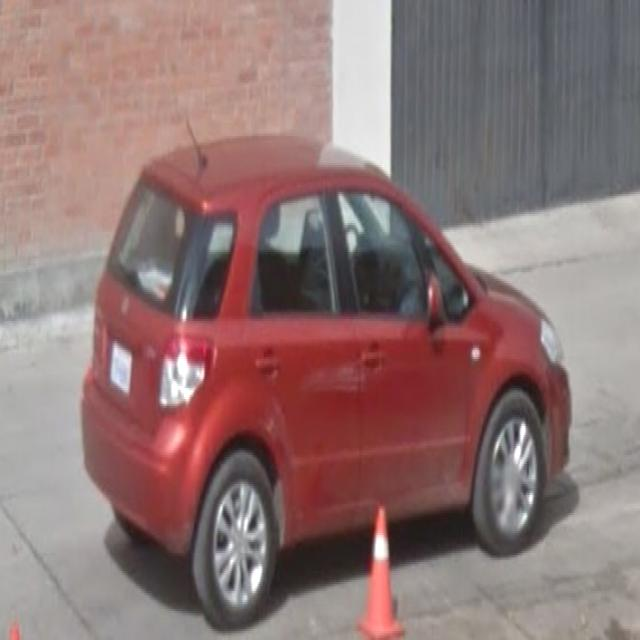car: (80, 132, 576, 633)
